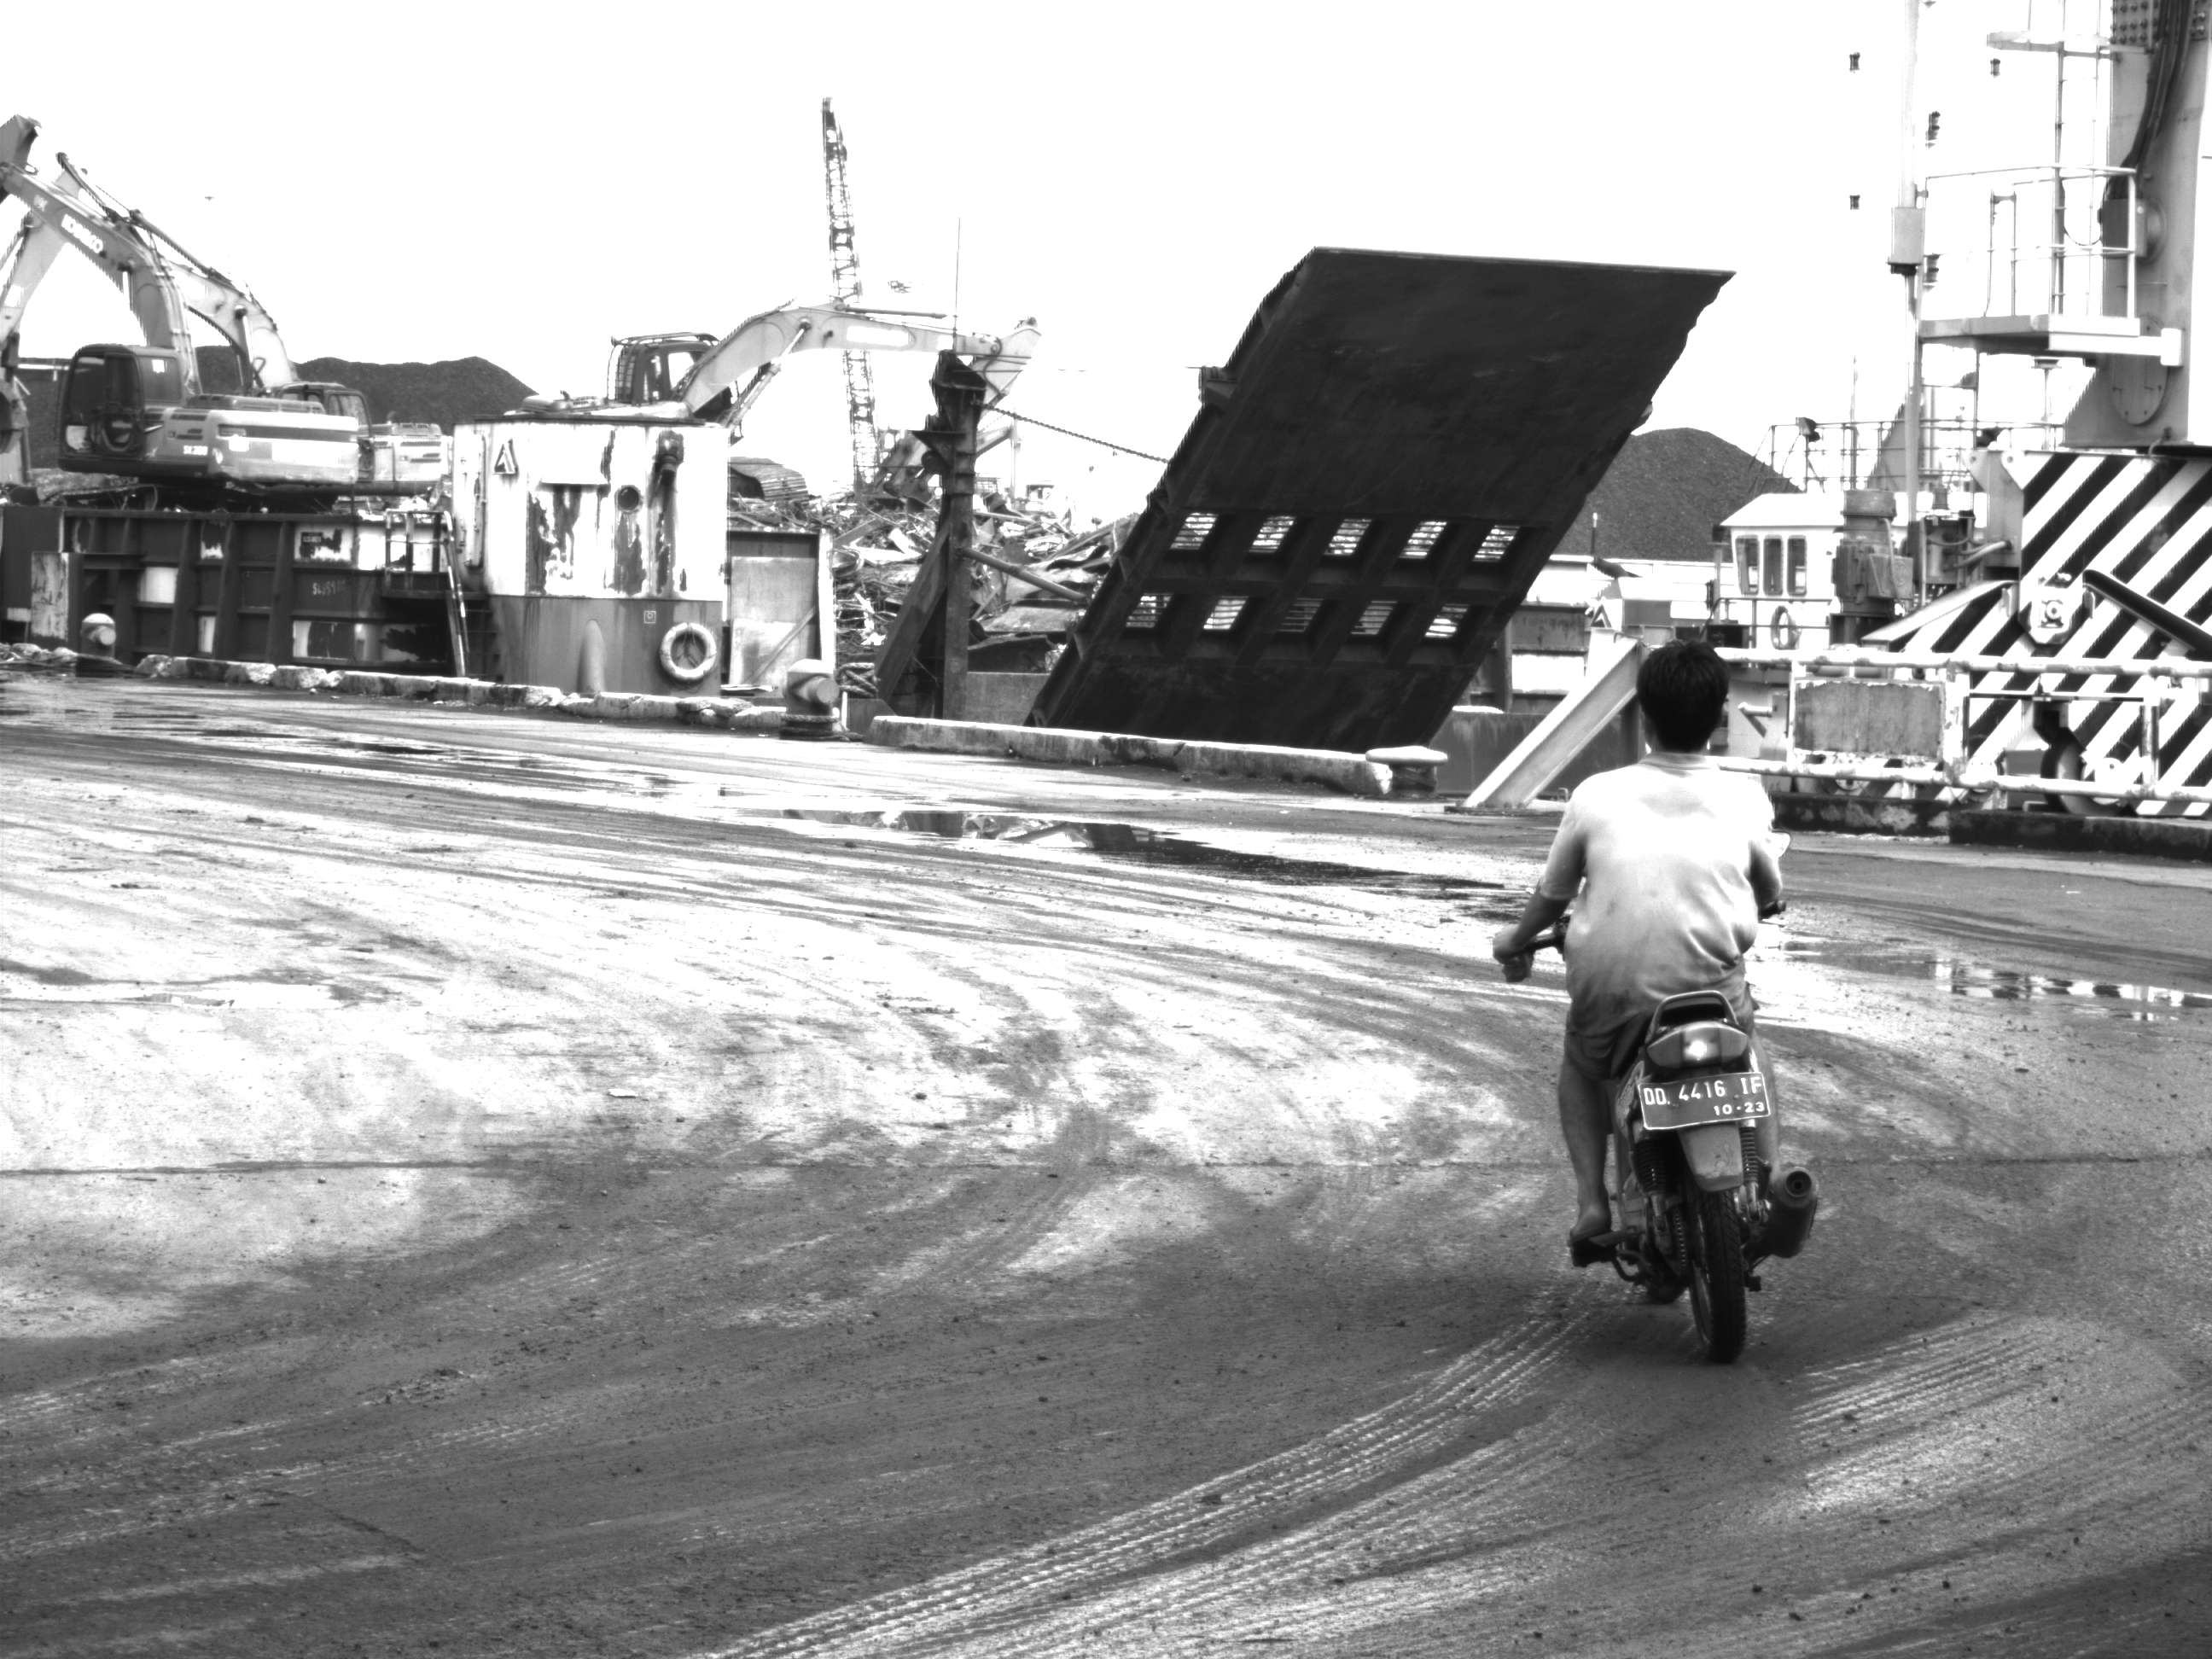day_motorcycle_rear: (1569, 969, 1858, 1367)
plate: (1636, 1067, 1775, 1129)
